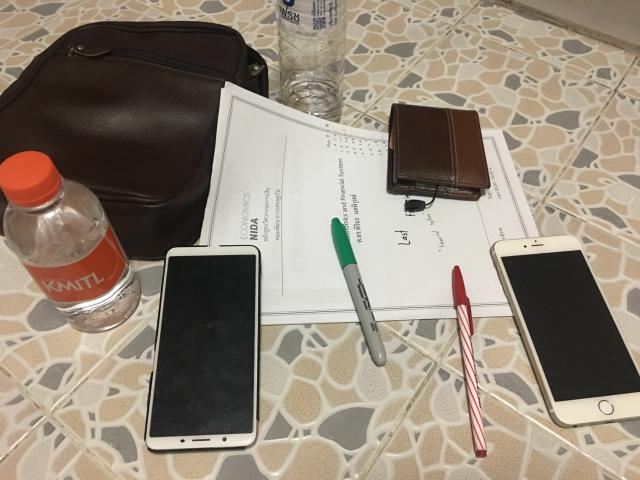Mobile phone: (491, 235, 640, 426), (145, 245, 260, 450)
Pen: (331, 218, 386, 366), (452, 265, 486, 458)
Wallet: (388, 104, 490, 200)
bottle: (0, 151, 141, 332), (276, 0, 348, 122)
paper: (188, 82, 568, 329)
